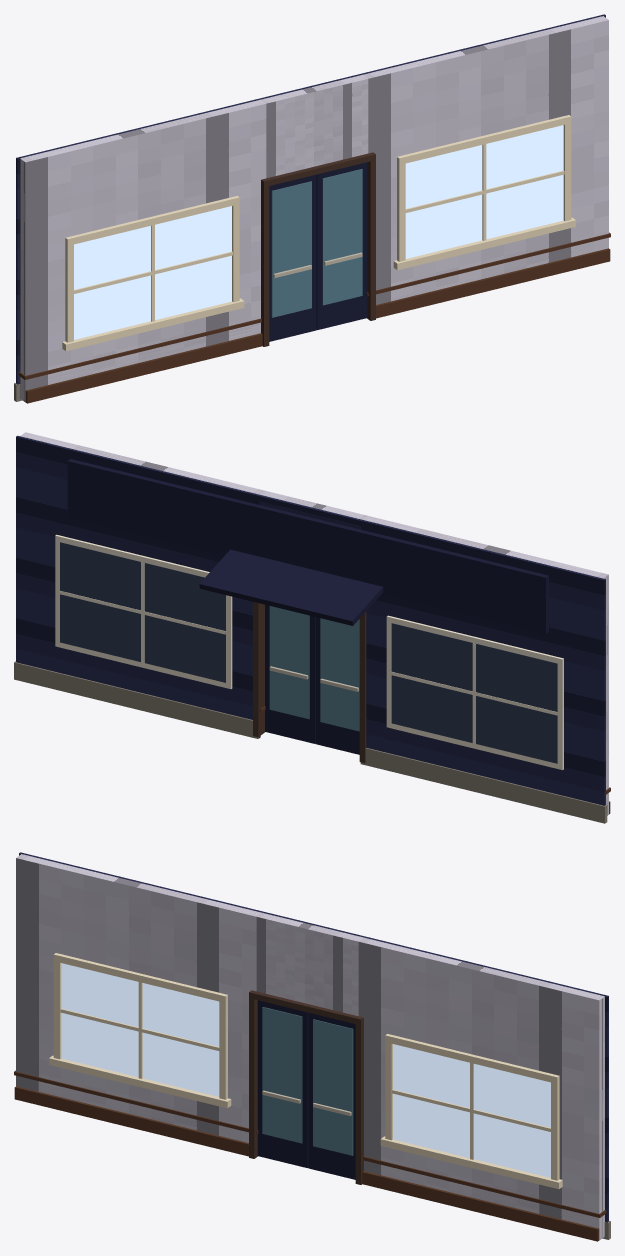
Rendered from front.glb.
The picture shows the model from 3 angles, top to bottom: view 1: azimuth 30°, elevation 25°; view 2: azimuth 150°, elevation 25°; view 3: azimuth 330°, elevation 25°; orthographic projection.
Parts seen in each view (by area): view 1: Box1, Box3, Box41, Box30, Box5, Box15, Box19, Box2, Box4, Box18, Box46, Box14 (+16 smaller); view 2: Box44, Box6, Box8, Box23, Box34, Box45, Box7, Box9, Box19, Box15, Box22, Box33 (+10 smaller); view 3: Box3, Box1, Box30, Box41, Box5, Box19, Box15, Box4, Box2, Box14, Box18, Box27 (+17 smaller).
Boxes of the visible parts, x1,y1,x2,y2 form: Box1: (20, 99, 266, 402); Box3: (363, 16, 608, 304); Box41: (405, 125, 563, 258); Box30: (74, 206, 231, 339); Box5: (261, 74, 368, 178); Box15: (271, 181, 311, 317); Box19: (322, 169, 362, 305); Box2: (25, 333, 262, 403); Box4: (376, 248, 610, 318); Box18: (316, 162, 367, 329); Box46: (20, 322, 260, 401); Box14: (269, 174, 316, 341); Box44: (67, 459, 548, 634); Box6: (361, 520, 605, 805); Box8: (16, 435, 260, 737); Box23: (391, 623, 557, 763); Box34: (60, 542, 225, 682); Box45: (199, 549, 383, 625); Box7: (360, 748, 607, 823); Box9: (14, 661, 259, 738); Box19: (269, 606, 309, 719); Box15: (320, 618, 359, 731); Box22: (386, 615, 563, 770); Box33: (55, 534, 232, 689); Box3: (358, 937, 604, 1240); Box1: (16, 854, 261, 1142); Box30: (61, 963, 219, 1096); Box41: (393, 1044, 550, 1177); Box5: (256, 912, 363, 1016); Box19: (313, 1019, 353, 1155); Box15: (262, 1007, 302, 1143); Box4: (362, 1171, 599, 1241); Box2: (14, 1086, 248, 1156); Box14: (257, 1000, 308, 1167); Box18: (308, 1012, 355, 1179); Box27: (49, 1055, 231, 1108).
Size of the model in its own units: 9.27 by 3.64 by 1.22.
Materials: 12 (2 with a texture image).
